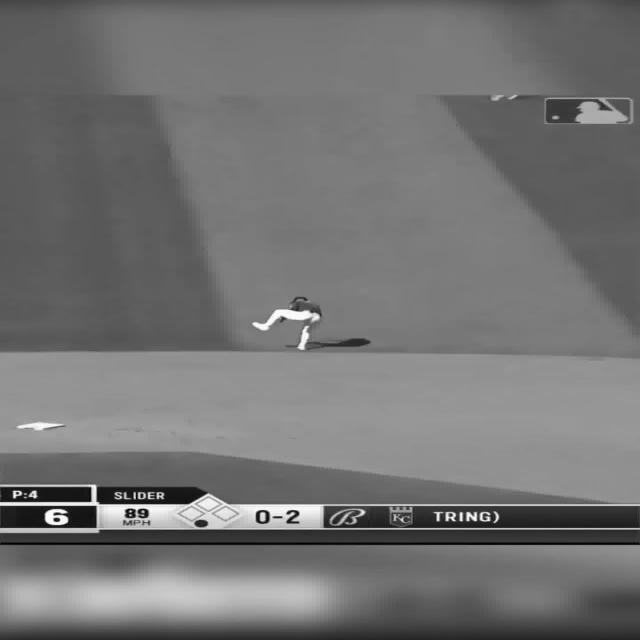base: (16, 421, 64, 431)
shoe: (251, 322, 271, 331)
